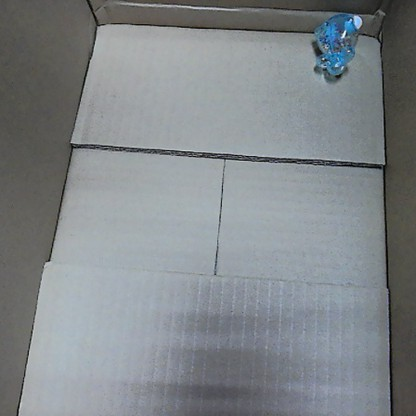bluefish: (306, 10, 363, 79)
